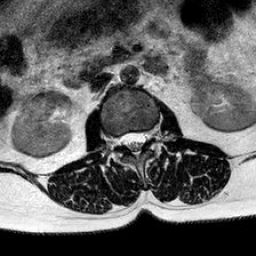CCS_normal: (130, 118, 138, 165)
LFS_normal: (147, 120, 155, 148)
LLS_normal: (138, 120, 147, 155)
RFS_normal: (113, 123, 121, 154)
RLS_normal: (121, 123, 130, 154)
